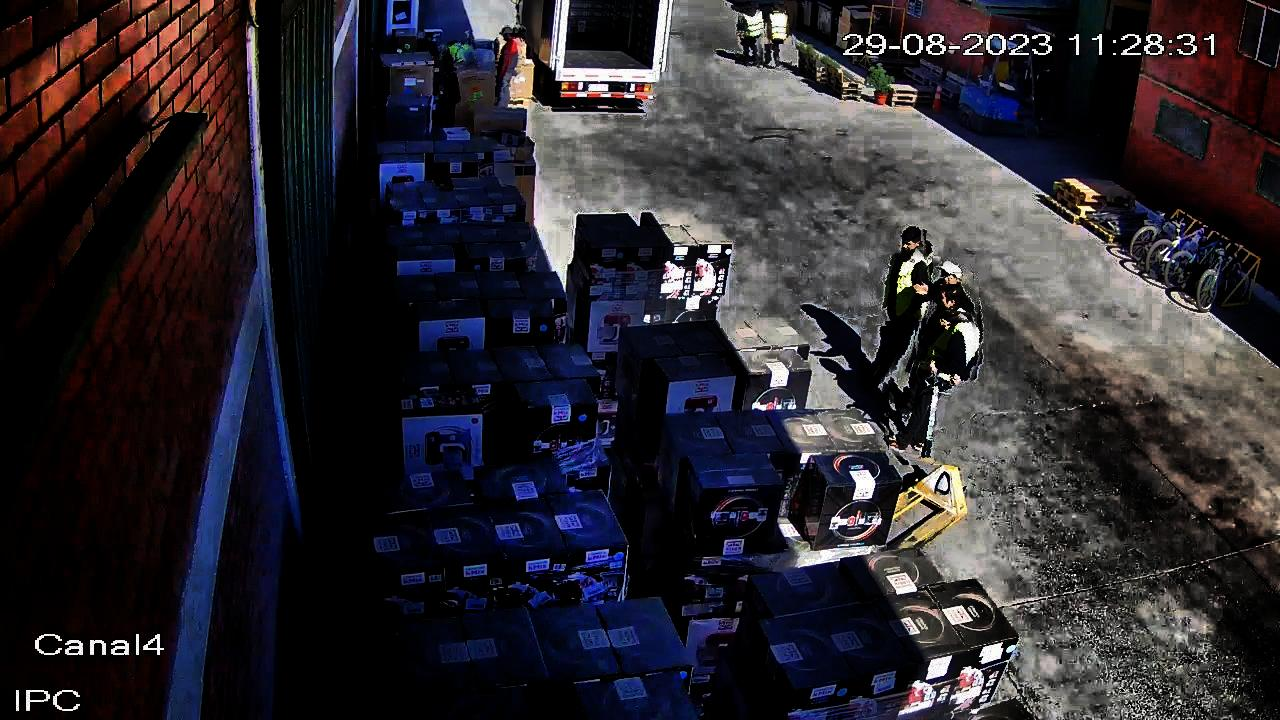con-casco: (934, 257, 974, 289), (502, 26, 517, 42)
con-chaleco: (915, 307, 985, 386), (873, 251, 934, 322), (443, 40, 478, 71), (765, 11, 793, 44), (741, 8, 766, 38)
persona: (890, 280, 990, 466), (891, 254, 986, 428), (862, 225, 940, 394), (440, 32, 480, 103), (497, 25, 525, 116), (764, 1, 797, 73), (735, 1, 767, 68)
sin-casco: (938, 285, 969, 316), (897, 226, 928, 256), (770, 2, 786, 14), (746, 2, 763, 12)
sin-chaleco: (919, 278, 979, 351), (495, 39, 524, 97)
